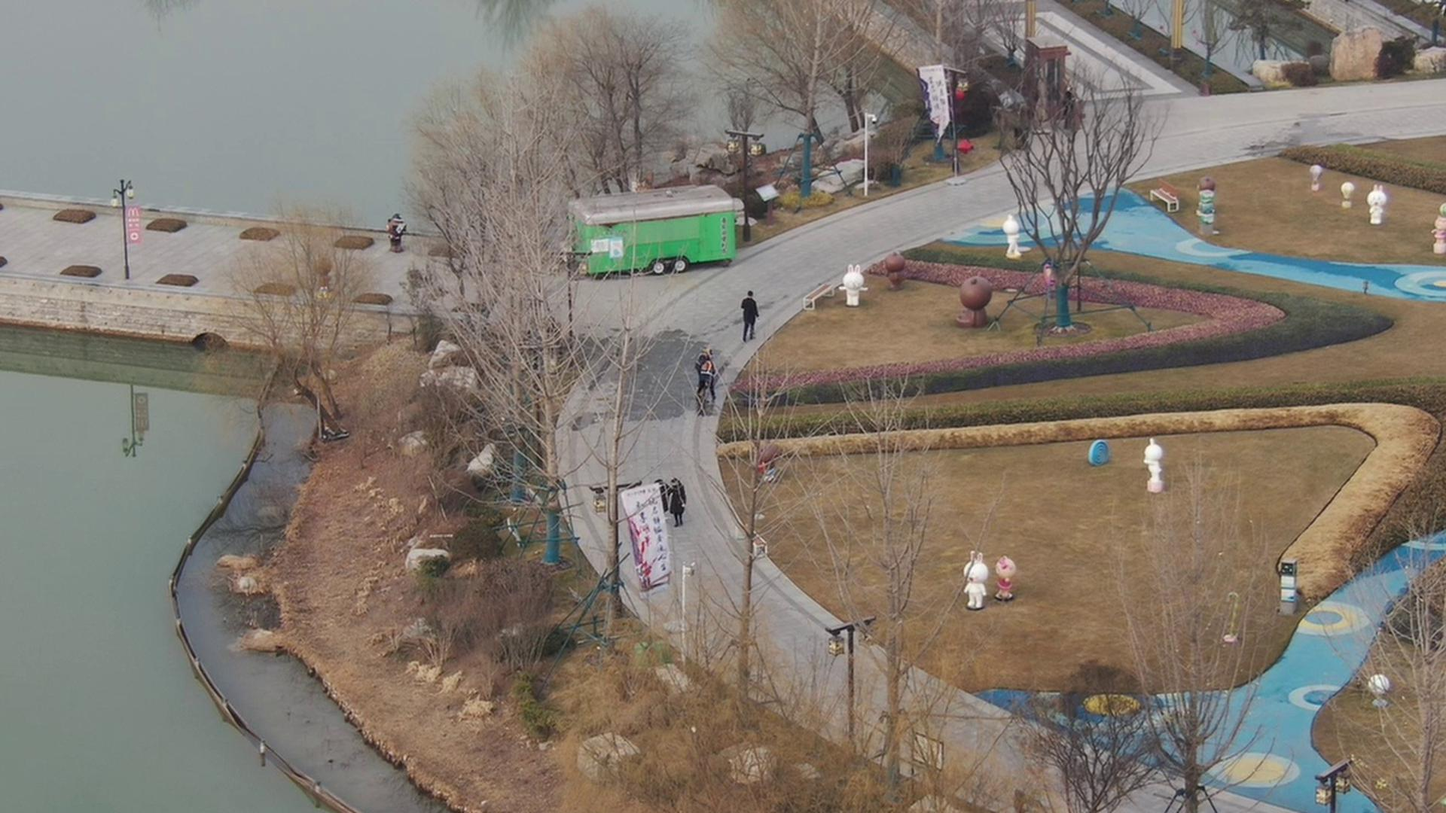class_2: (652, 476, 689, 531), (694, 349, 719, 417)
human: (731, 296, 756, 349)
